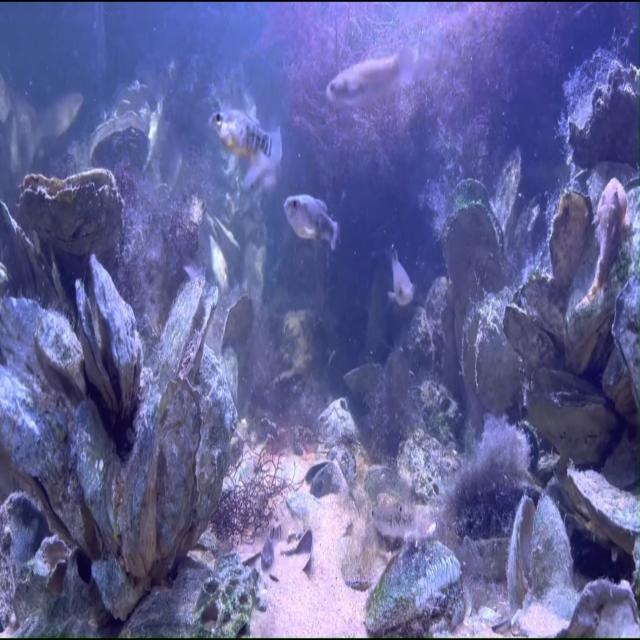Oyster-Closed: (0, 352, 134, 566), (54, 396, 153, 573), (475, 145, 557, 273), (363, 539, 466, 638), (149, 383, 204, 560), (148, 269, 224, 393), (120, 374, 163, 586), (20, 169, 124, 256), (381, 423, 469, 511), (196, 347, 238, 531), (564, 47, 639, 149), (0, 496, 53, 634), (501, 273, 569, 373), (34, 311, 88, 410), (548, 186, 595, 290), (612, 283, 640, 418)
Oyster-Open: (62, 249, 156, 426), (505, 359, 630, 478), (13, 535, 110, 638), (457, 294, 524, 415), (441, 177, 504, 296), (508, 496, 572, 609), (208, 292, 259, 405), (90, 111, 149, 171)
